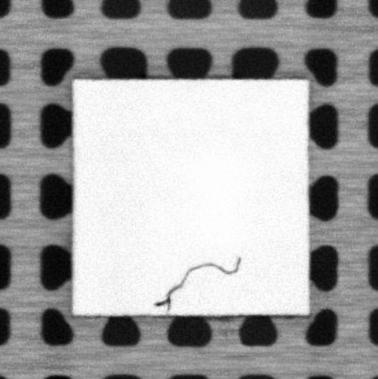DIE_INK: (153, 255, 243, 312)
